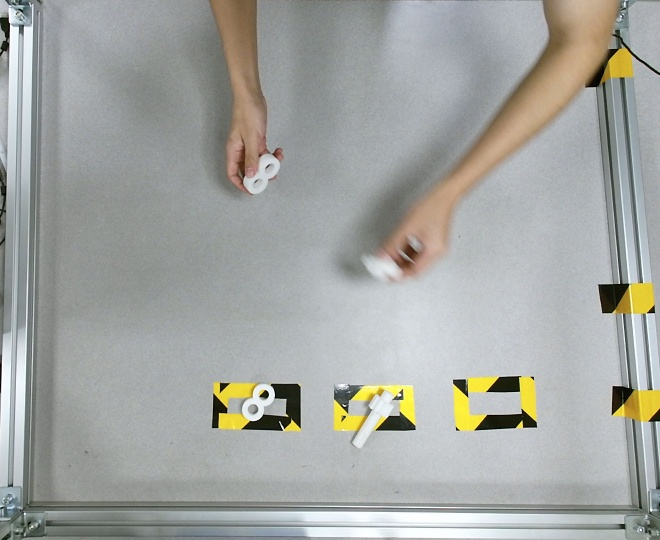stage_1: (243, 154, 280, 193)
